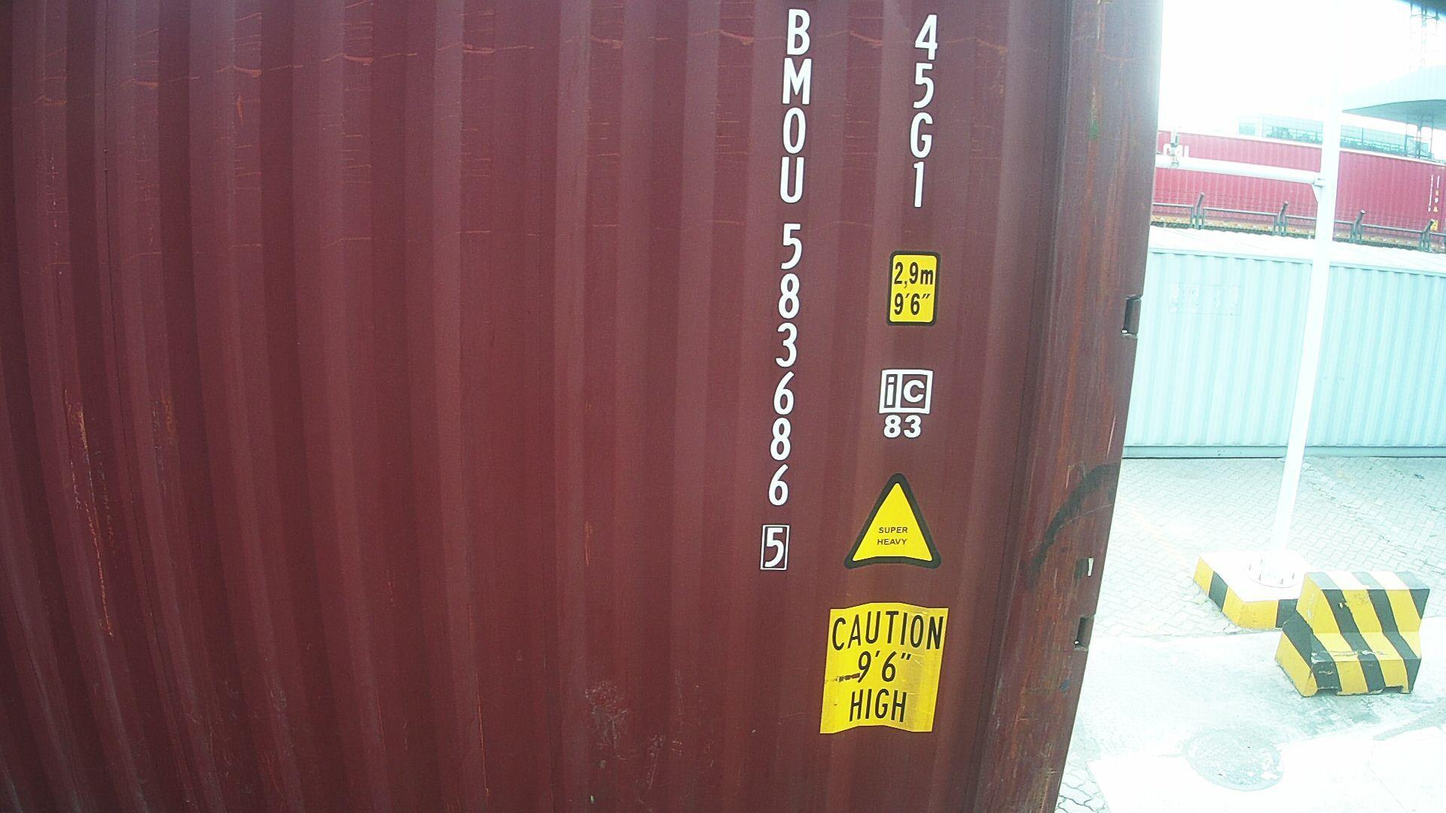container-numbers: (755, 0, 820, 578), (900, 8, 947, 216)
